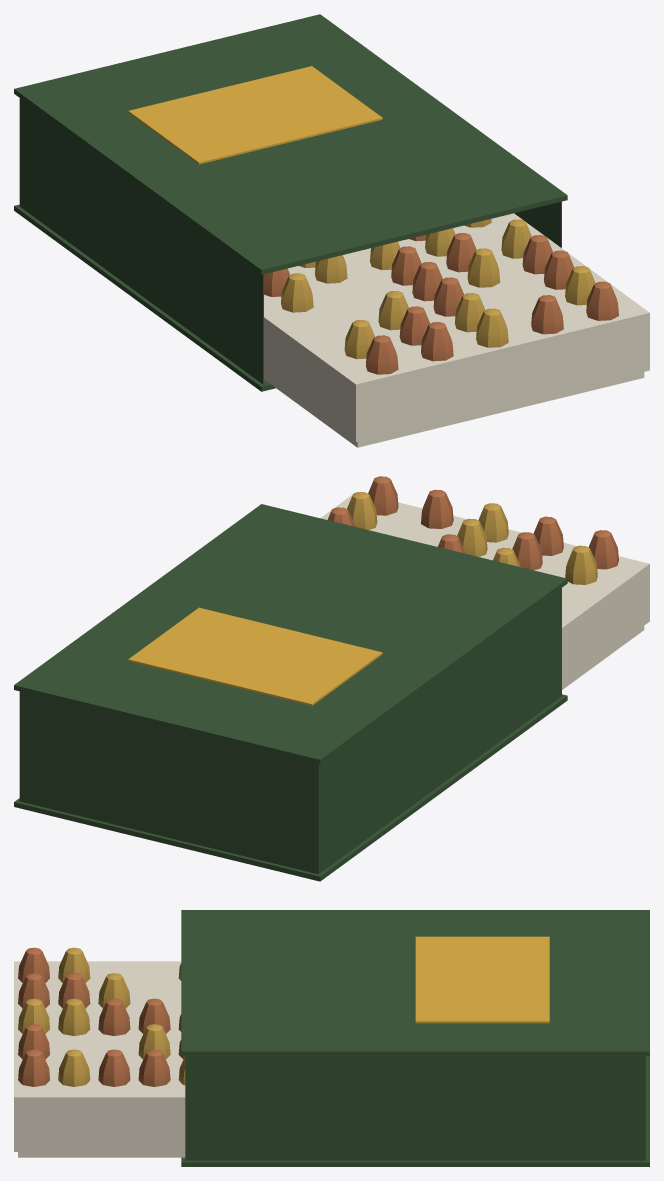
The model's file is ammo_box.glb.
The picture shows the model from 3 angles, top to bottom: view 1: azimuth 30°, elevation 25°; view 2: azimuth 150°, elevation 25°; view 3: azimuth 270°, elevation 25°; orthographic projection. The views are drawn at different scales.
Parts seen in each view (by area): view 1: ammo_box; view 2: ammo_box; view 3: ammo_box.
Boxes of the visible parts, bbox=[...] form: ammo_box: bbox=[14, 14, 649, 447]; ammo_box: bbox=[14, 476, 649, 881]; ammo_box: bbox=[14, 910, 649, 1166].
Size of the model in its own units: 0.1 by 0.0386 by 0.19.
